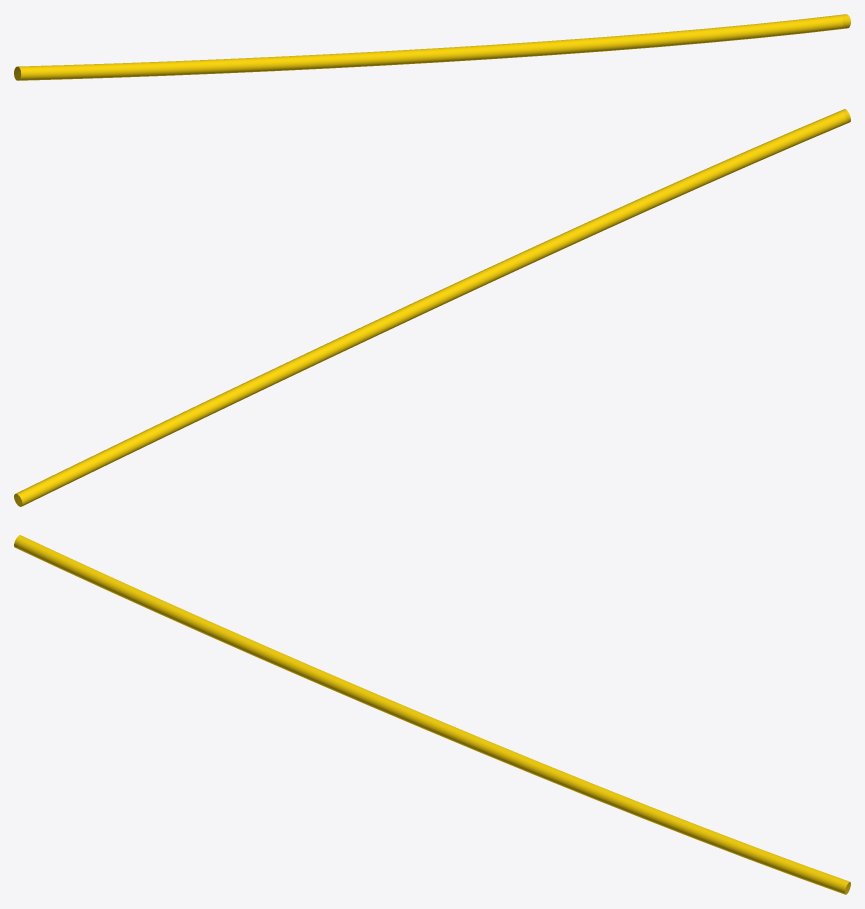
File: Event_420604493_track_21.fbx
3 views of the same model, one above another, from view 1: azimuth 30°, elevation 25°; view 2: azimuth 210°, elevation 25°; view 3: azimuth 330°, elevation 25° (orthographic). The views are drawn at different scales.
Parts seen in each view (by area): view 1: Model; view 2: Model; view 3: Model.
Part boxes in pixels (x1,y1,x2,y2): Model: (14, 14, 850, 80); Model: (14, 109, 850, 506); Model: (14, 535, 850, 894).
Bounding box in the file's own units: 2.72 × 0.5487 × 0.1415.
